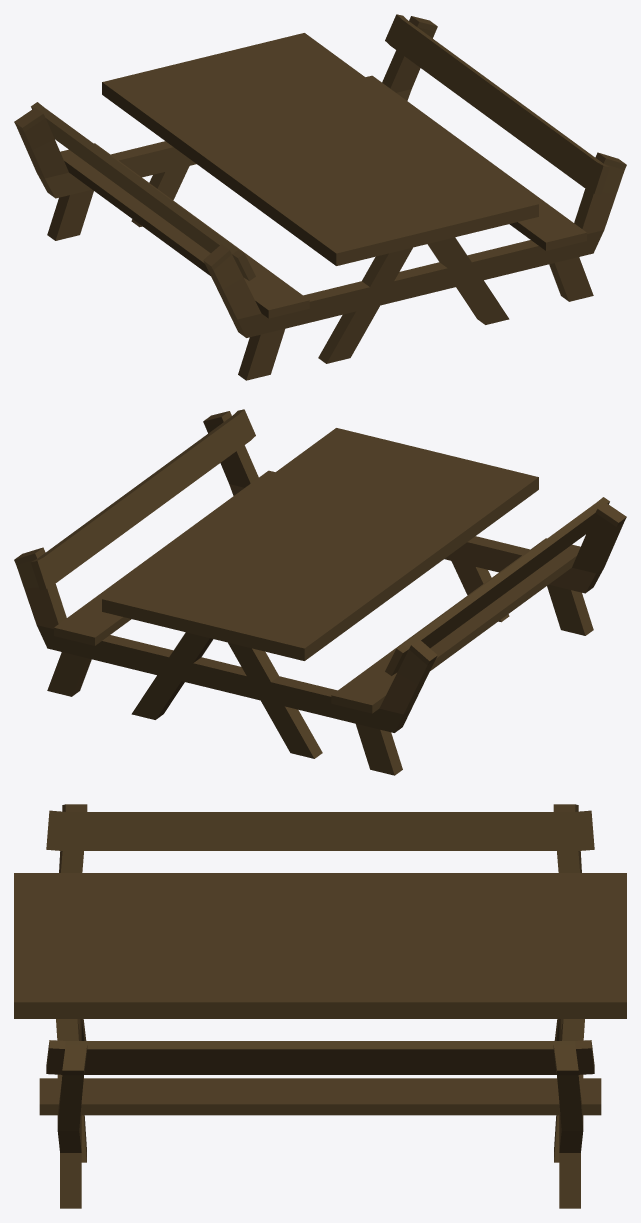
File: TABEL.fbx
The picture shows the model from 3 angles, top to bottom: view 1: azimuth 30°, elevation 25°; view 2: azimuth 150°, elevation 25°; view 3: azimuth 270°, elevation 25°; orthographic projection. The views are drawn at different scales.
Visible parts, largest first — view 1: Cube; view 2: Cube; view 3: Cube.
Part boxes in pixels (x1,y1,x2,y2): Cube: (14, 14, 626, 380); Cube: (14, 409, 626, 775); Cube: (14, 804, 626, 1208).
Size of the model in its own units: 4116 by 1299 by 4016.
